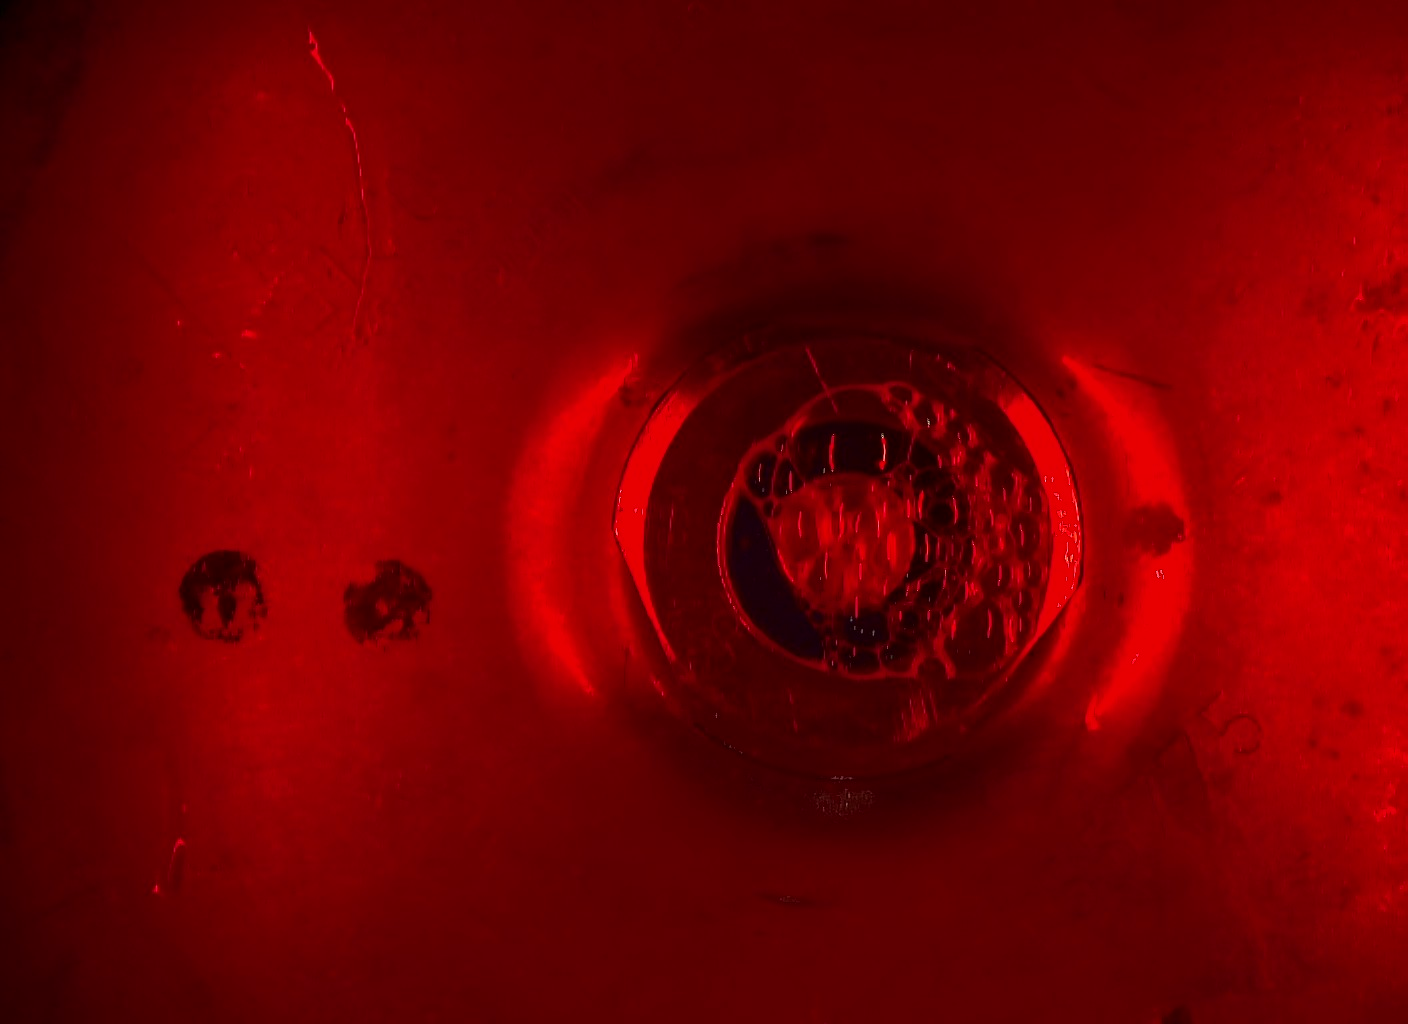pena: (725, 382, 1058, 694)
